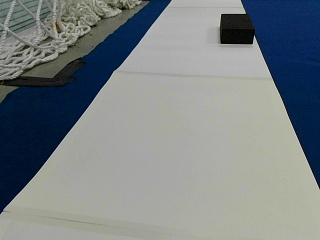block: (219, 13, 255, 44)
